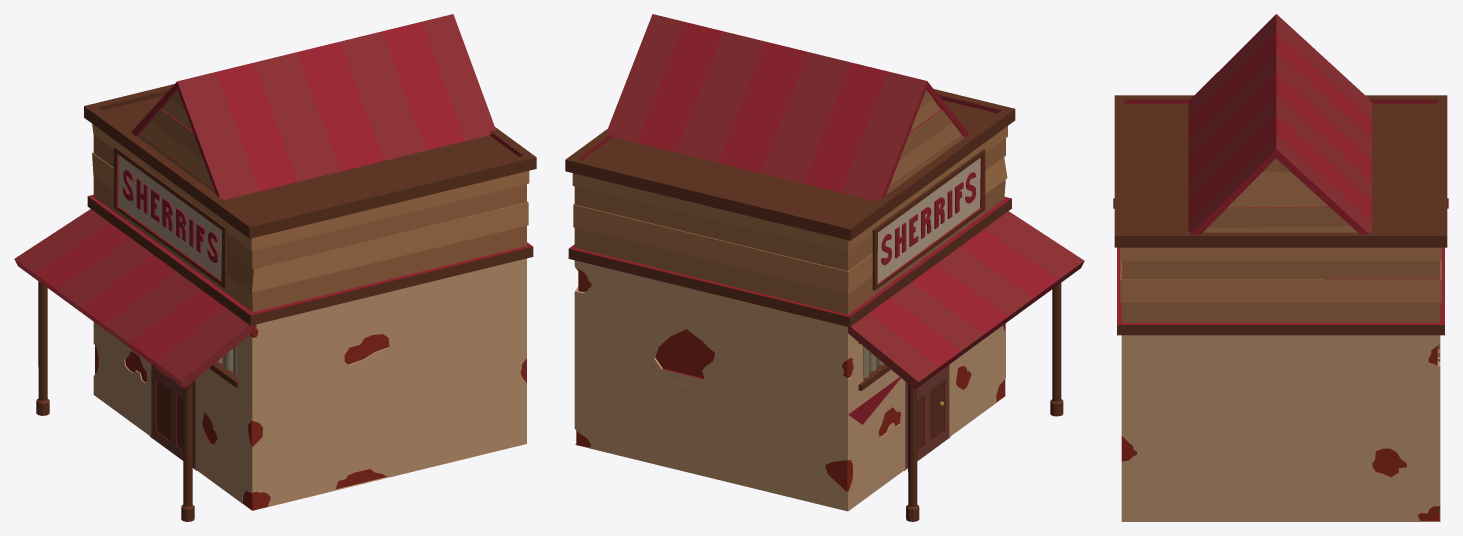
File: FixedSheriffs2.fbx
3 views of the same model, side by side, from view 1: azimuth 30°, elevation 25°; view 2: azimuth 150°, elevation 25°; view 3: azimuth 270°, elevation 25° (orthographic).
Parts seen in each view (by area): view 1: Cube; view 2: Cube; view 3: Cube.
Part boxes in pixels (box(x1,y1,x2,y2)): Cube: box(14, 14, 536, 521); Cube: box(565, 14, 1084, 521); Cube: box(1113, 14, 1448, 521).
Size of the model in its own units: 553 by 554 by 448.
